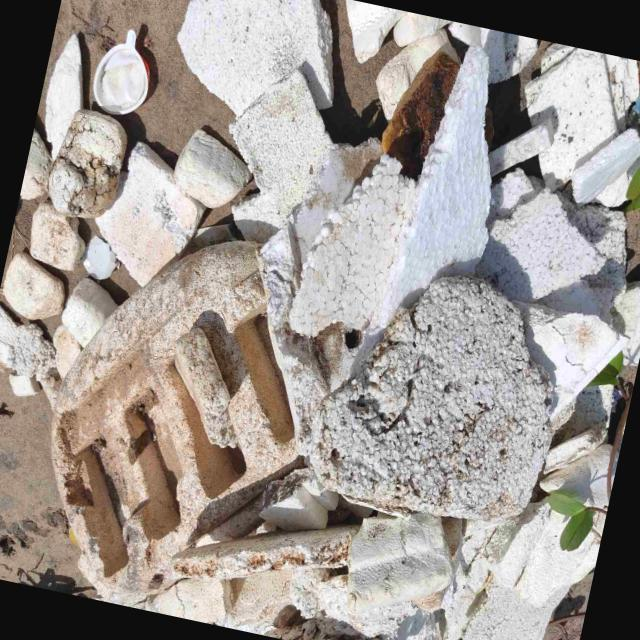hop_nhua: (92, 28, 148, 114)
xop: (310, 276, 551, 521), (362, 46, 491, 353), (289, 154, 416, 336), (176, 0, 333, 115), (257, 225, 329, 455), (94, 141, 205, 285), (228, 69, 334, 217), (477, 188, 606, 301), (347, 513, 452, 614), (173, 129, 251, 208), (43, 32, 81, 159), (2, 252, 63, 320), (0, 307, 55, 379), (60, 278, 117, 347), (611, 279, 640, 366)
